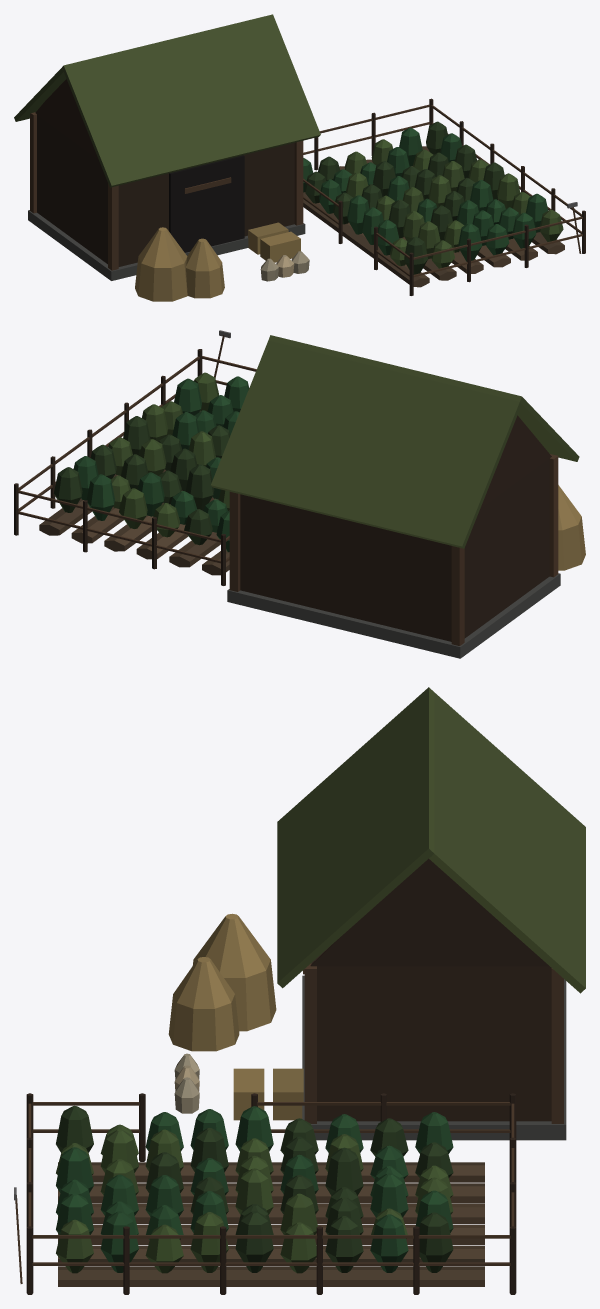
File: walk_rime_plantation.glb
3 renders of one model, top to bottom at view 1: azimuth 30°, elevation 25°; view 2: azimuth 150°, elevation 25°; view 3: azimuth 270°, elevation 25°, orthographic. The views are drawn at different scales.
Visible parts, largest first — view 1: walk_rime_plantation, walk_rime_plantation_roof; view 2: walk_rime_plantation, walk_rime_plantation_roof; view 3: walk_rime_plantation, walk_rime_plantation_roof.
Boxes of the visible parts, x1,y1,x2,y2 form: walk_rime_plantation: [28, 79, 585, 301]; walk_rime_plantation_roof: [14, 14, 320, 187]; walk_rime_plantation: [14, 330, 585, 658]; walk_rime_plantation_roof: [211, 335, 579, 548]; walk_rime_plantation: [14, 858, 566, 1294]; walk_rime_plantation_roof: [277, 687, 585, 993].
Size of what is drawn, in the model's own units: 12.85 by 6.04 by 10.18.
Materials: 2 (2 with a texture image).
